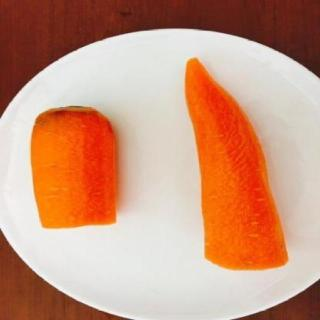carrot: (175, 55, 293, 271), (27, 102, 123, 235)
